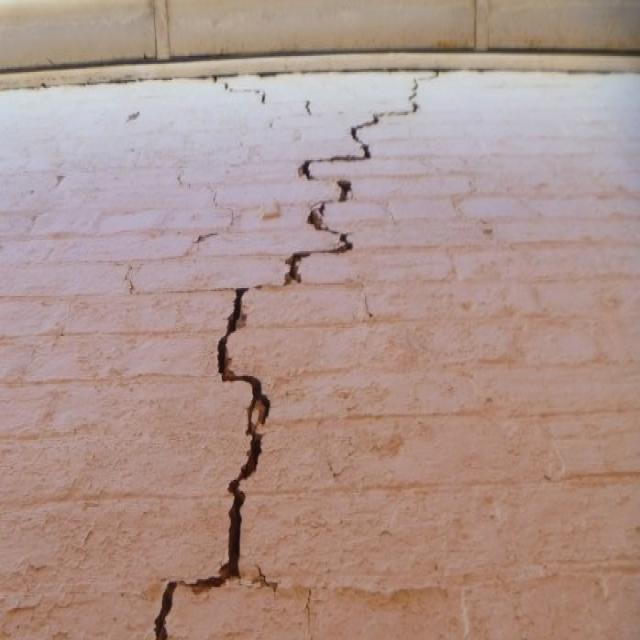Crack: (147, 71, 433, 639)
